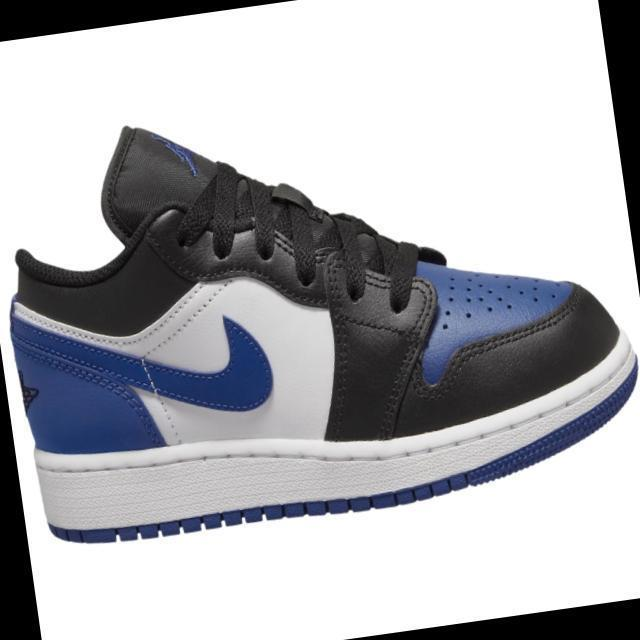nike original jordan 1: (0, 58, 640, 580)
